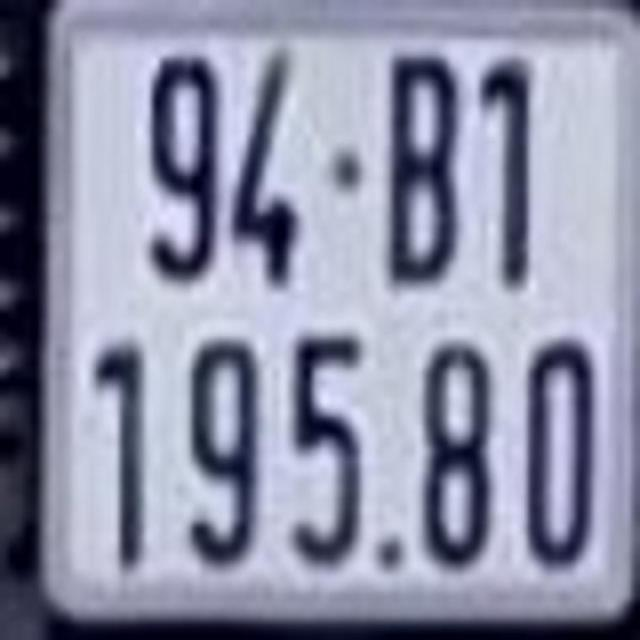0: (520, 331, 596, 568)
1: (474, 50, 541, 295), (90, 328, 148, 570)
4: (230, 41, 306, 298)
5: (285, 320, 366, 574)
8: (417, 332, 492, 566)
9: (183, 322, 260, 567), (143, 50, 221, 285)
B: (381, 48, 459, 291)
